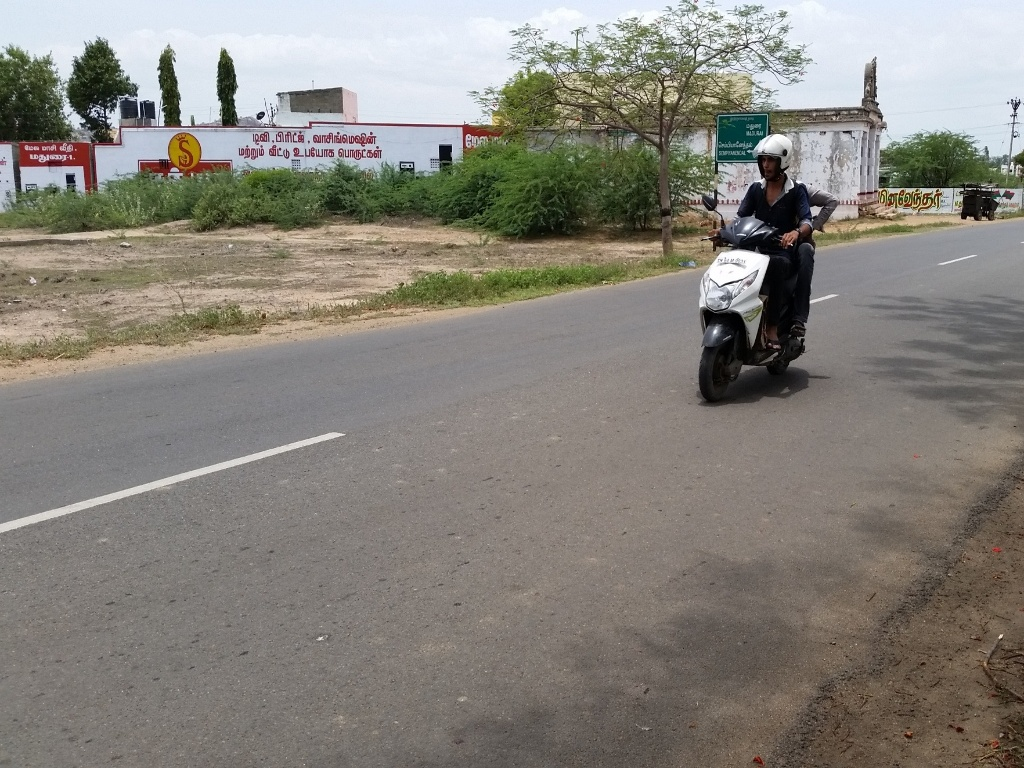biker: (672, 100, 872, 409)
helmet: (745, 122, 803, 188)
